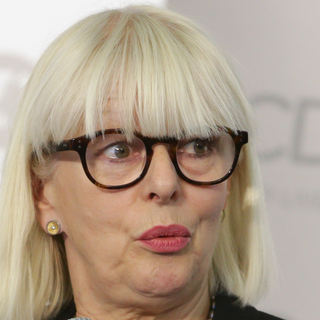eye: (96, 140, 135, 164), (177, 135, 215, 159)
